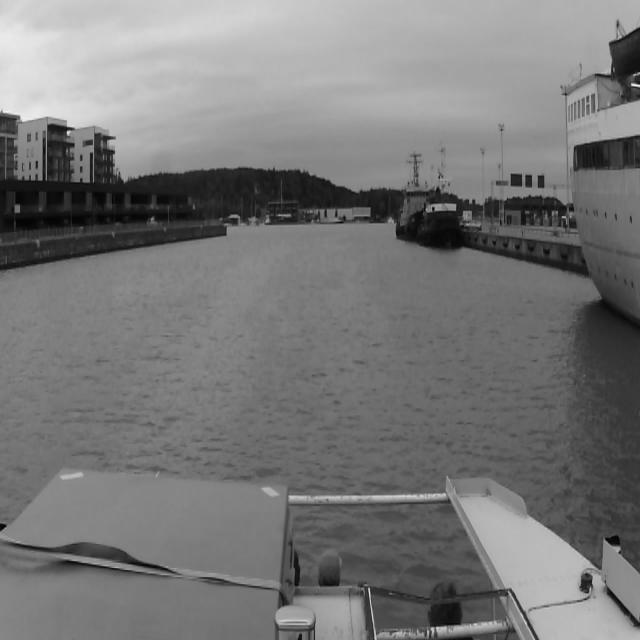ship: (566, 0, 640, 332), (418, 138, 464, 248), (396, 148, 418, 242), (276, 178, 292, 218)
